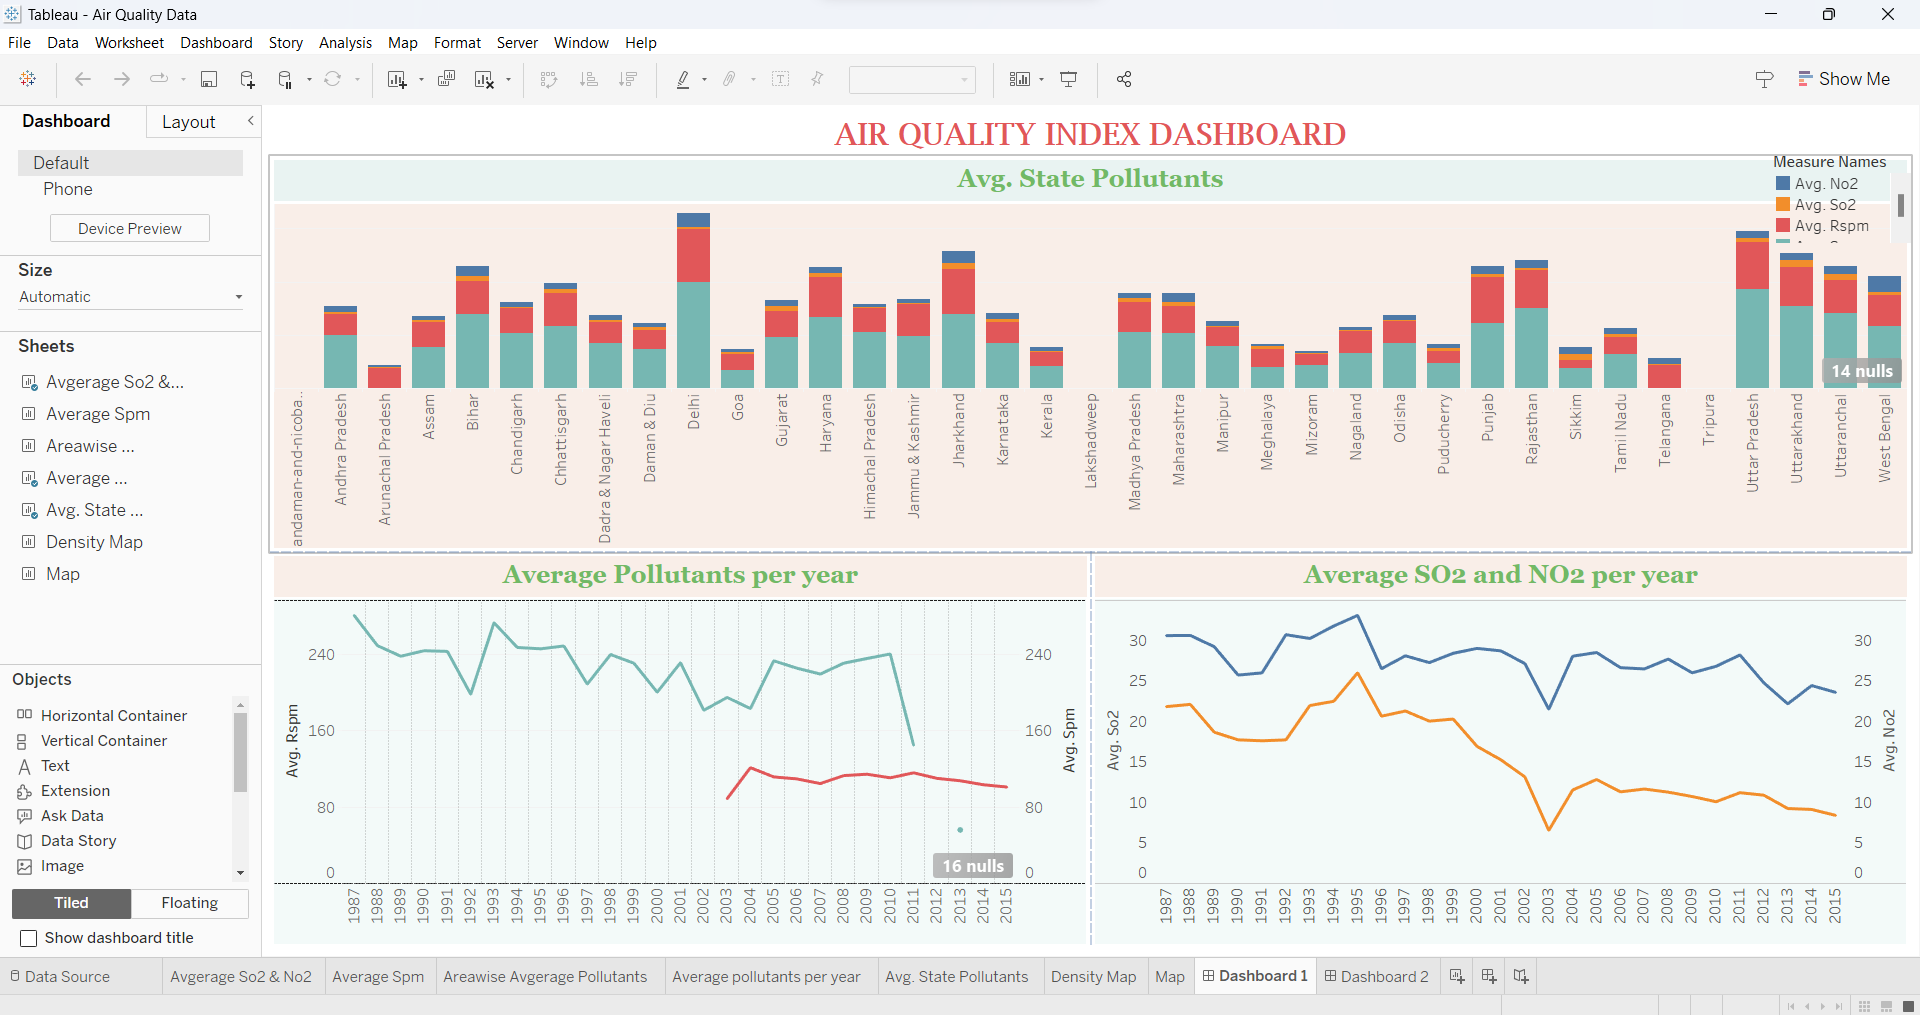

The page's visual inventory and layout, read from the dashboard file:
{"tool":"tableau","page":{"name":"Dashboard 1","canvas":[1000,1000],"units":"permille","ordinal":0},"visuals":[{"type":"title","box":[4.8,9.4,990.3,50.5]},{"type":"legend","title":"Avg. State Pollutants","param":"[federated.0zihbo80kwd5b610c23j21wgvi3j].[:Measure Names]","box":[911.9,53.6,84.5,108.1]},{"type":"worksheet","title":"Avg. State Pollutants","mark":"Bar","cols":["state"],"box":[4.8,59.9,990.3,465.3]},{"type":"worksheet","title":"Average pollutants per year","mark":"Automatic","rows":["rspm","spm"],"cols":["date"],"box":[4.8,525.2,495.2,465.4]},{"type":"worksheet","title":"Avgerage So2 & No2","mark":"Automatic","rows":["so2","no2"],"cols":["date"],"box":[500,525.2,495.2,465.4]}]}

Visuals, with their boxes on the dashboard's canvas, which has no fixed pixel size, in thousandths of its width and height (x1, y1, x2, y2). These are canvas units, not pixel positions in the 1920x1015 screenshot, which may show the page scaled, cropped or inside an application window:
title: region(5, 9, 995, 60)
"Avg. State Pollutants" legend: region(912, 54, 996, 162)
"Avg. State Pollutants" worksheet (Bar marks): region(5, 60, 995, 525)
"Average pollutants per year" worksheet: region(5, 525, 500, 991)
"Avgerage So2 & No2" worksheet: region(500, 525, 995, 991)
